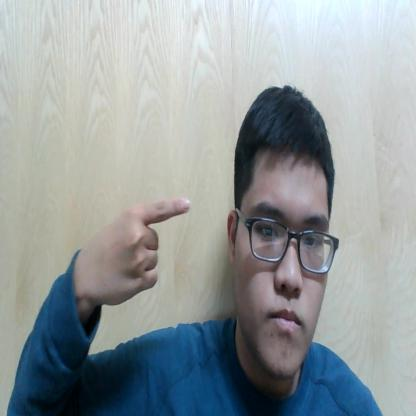left: (82, 192, 189, 318)
